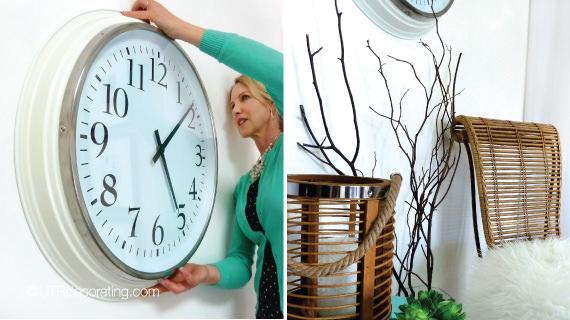clock: (76, 29, 218, 278)
